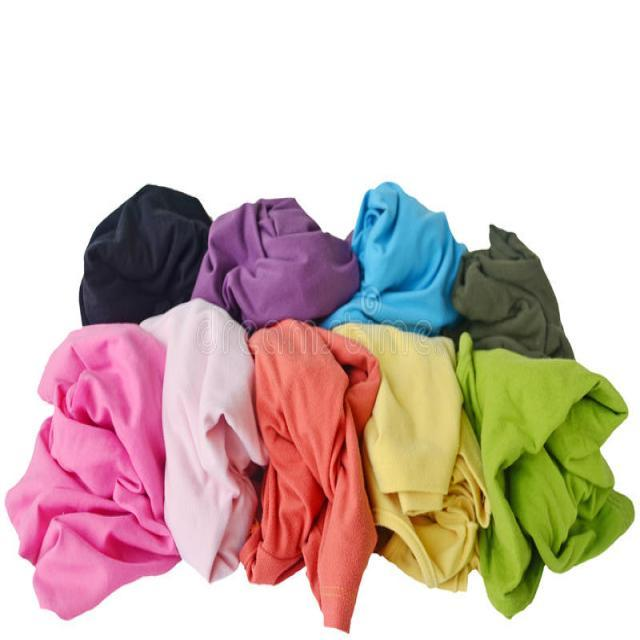clothes: (28, 221, 626, 594)
